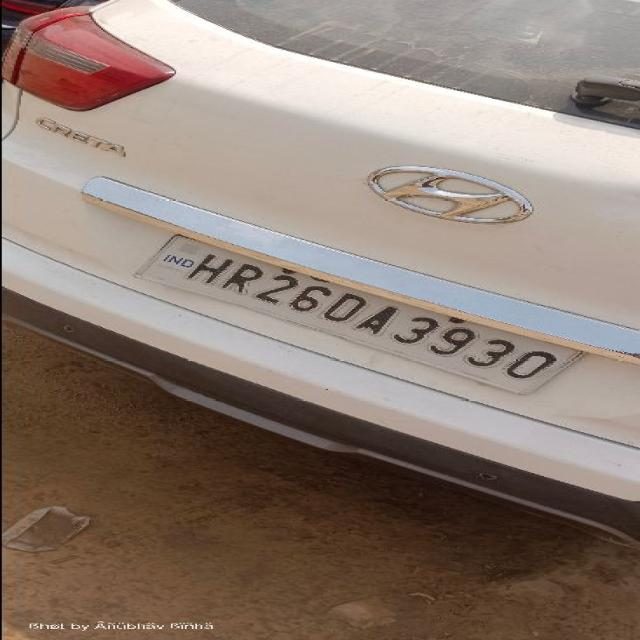license_plate: (131, 233, 586, 395)
